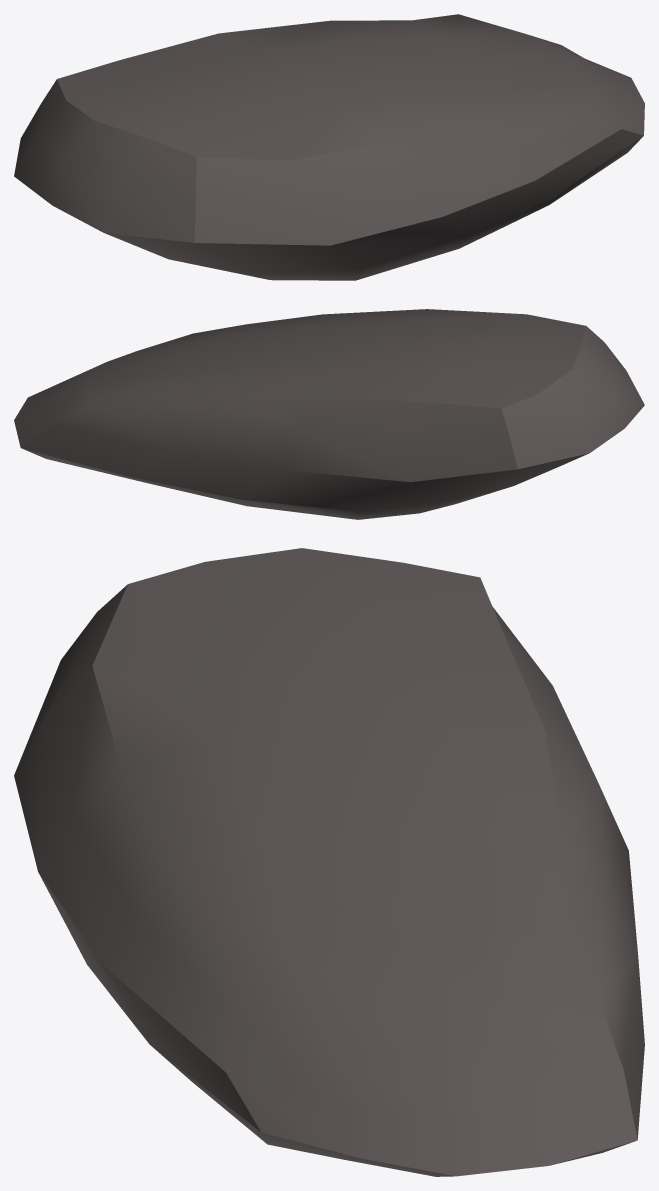
Rendered from PedraGrande1.fbx.
The picture shows the model from 3 angles, top to bottom: view 1: azimuth 30°, elevation 25°; view 2: azimuth 150°, elevation 25°; view 3: azimuth 270°, elevation 25°; orthographic projection. The views are drawn at different scales.
Parts seen in each view (by area): view 1: PedraGrande1_LOD0; view 2: PedraGrande1_LOD0; view 3: PedraGrande1_LOD0.
Boxes of the visible parts, x1=… form: PedraGrande1_LOD0: x1=14, y1=14, x2=644, y2=280; PedraGrande1_LOD0: x1=14, y1=309, x2=644, y2=519; PedraGrande1_LOD0: x1=14, y1=548, x2=644, y2=1176.
Size of what is drawn, in the model's own units: 1.81 by 0.4972 by 1.05.
